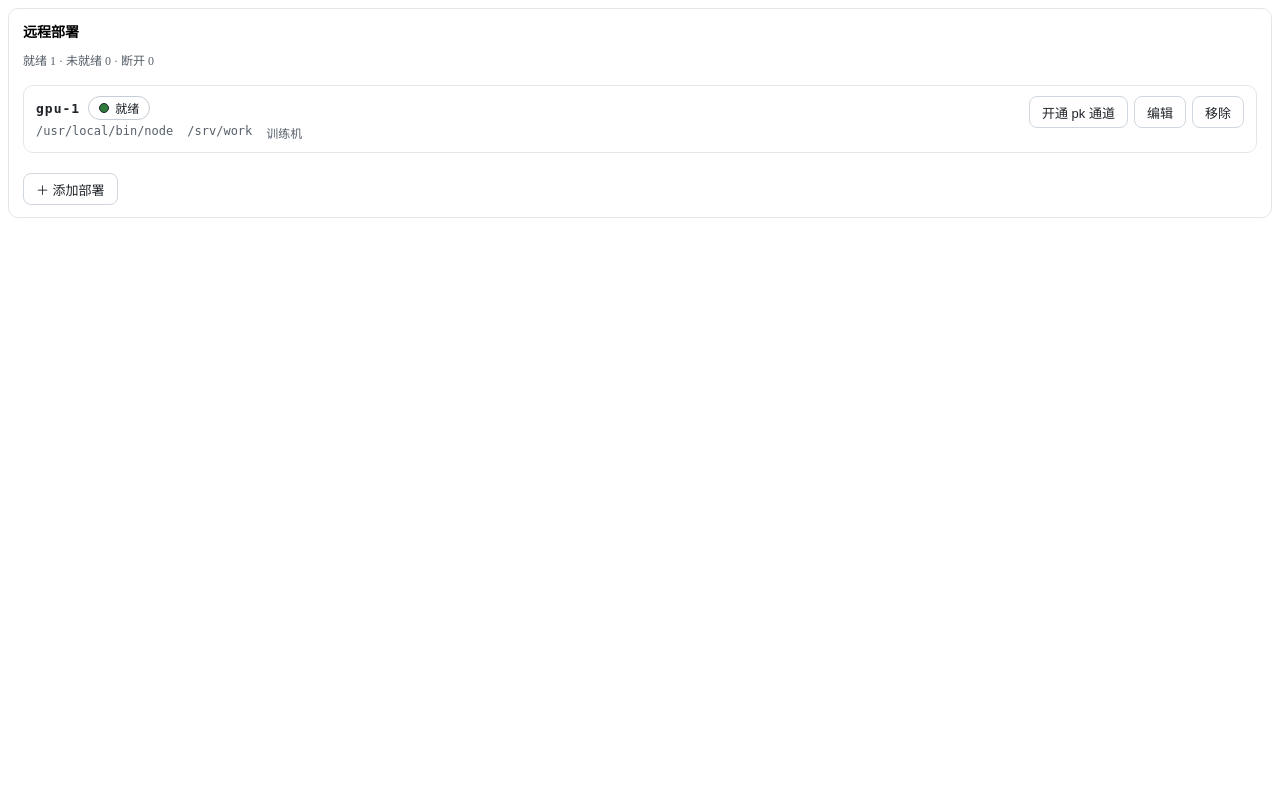
Test: DeployFormModal 新增/编辑 › 编辑：预填 + 保存后回落未就绪提示（§8 部署编辑回落；当前别名不在 config 列表时保留可选）
Step 1. Click the button "编辑" → (1160, 112), box [1134,96,1186,128]
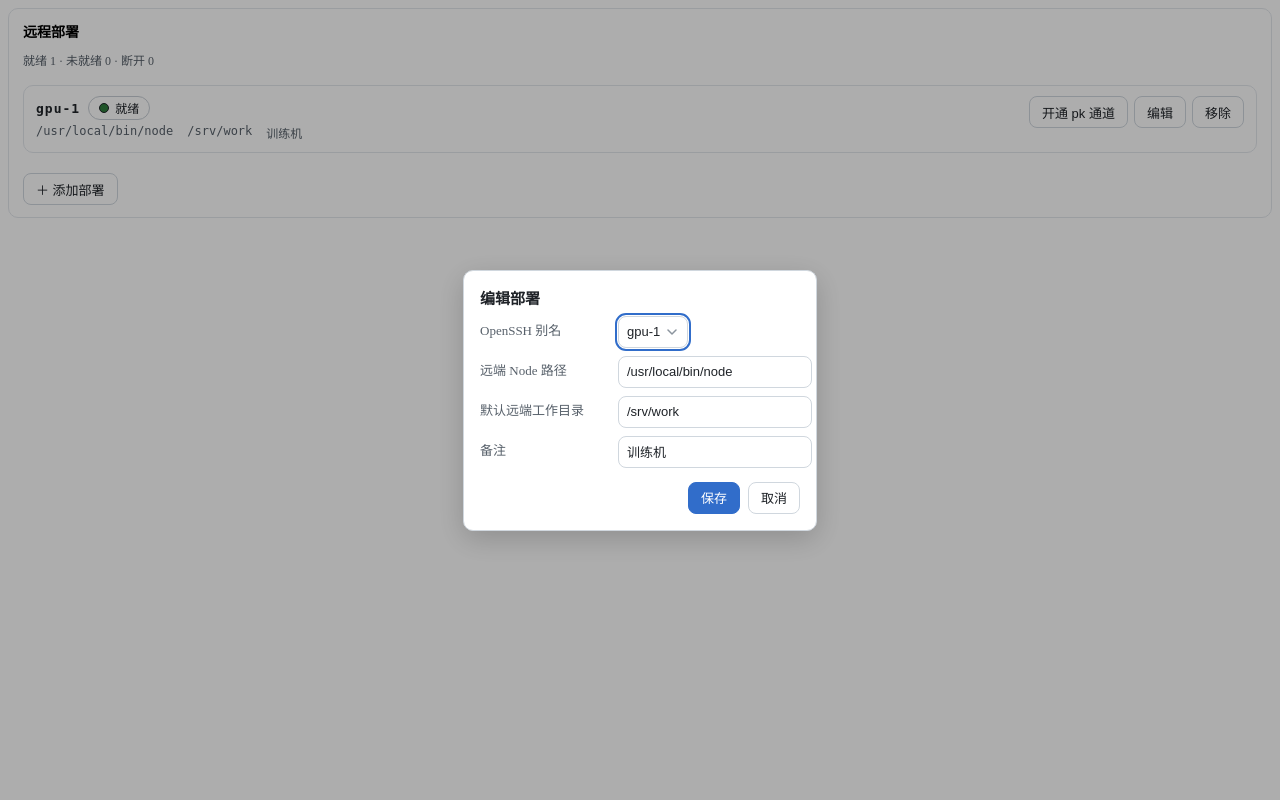
Expected: the dropdown labelled "OpenSSH 别名" shows "gpu-1", [618,316,688,348]
Expected: the field labelled "备注" holds "训练机"
Step 2. Replace the text in the field labelled "备注" with "训练机 2 号位" → (715, 452), box [618,436,812,468]
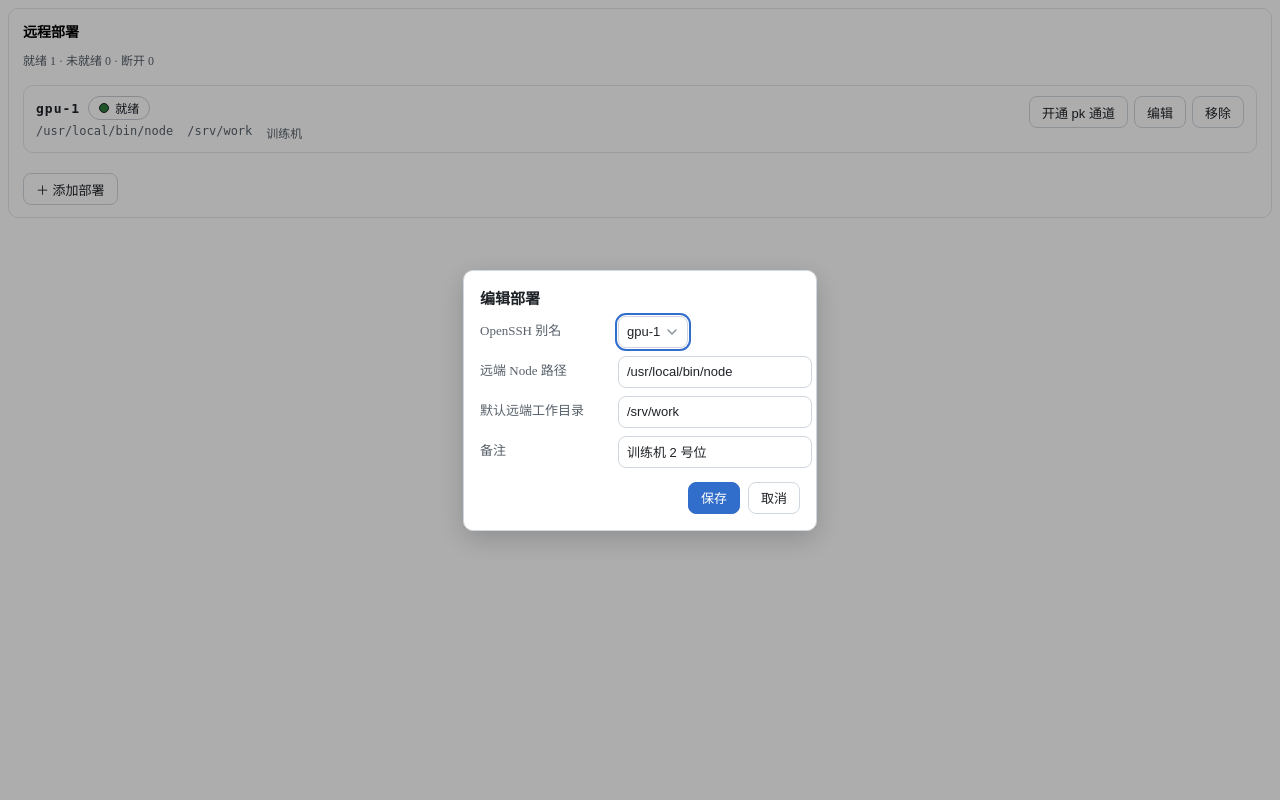
Step 3. Click the button "保存" → (714, 498), box [688,482,740,514]
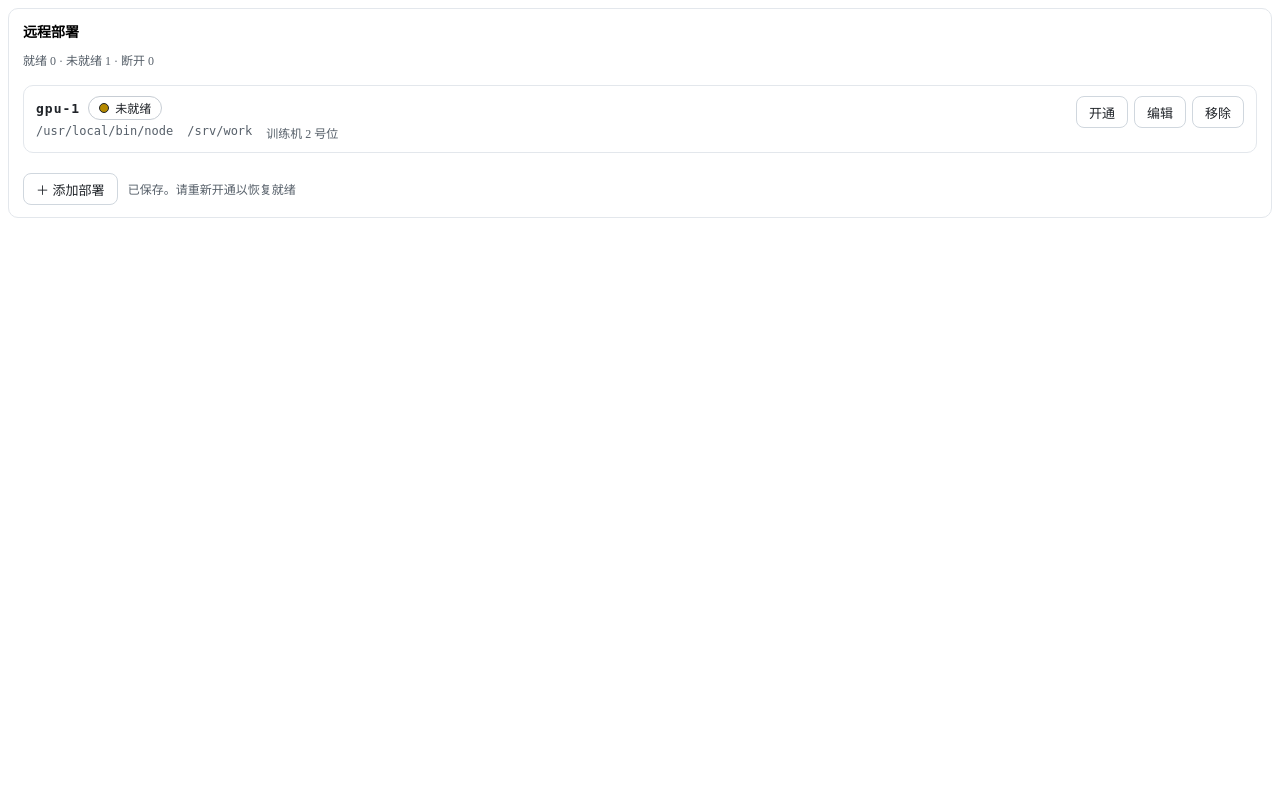
Expected: the message with test id "deploy-save-hint" shows "请重新开通", [128,183,296,197]
Expected: the text "未就绪" is shown, [88,96,162,120]
